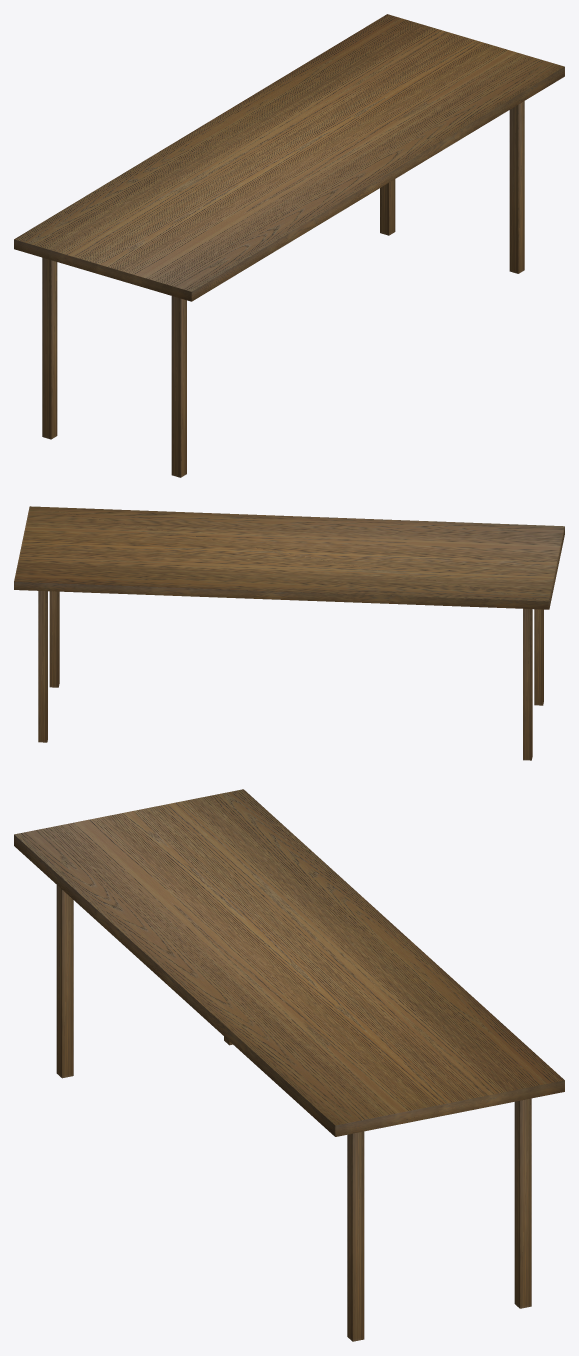
Rendered from Obstacle_088.obj.
The picture shows the model from 3 angles, top to bottom: view 1: azimuth 30°, elevation 25°; view 2: azimuth 150°, elevation 25°; view 3: azimuth 270°, elevation 25°; orthographic projection. The views are drawn at different scales.
Visible parts, largest first — view 1: Box195; view 2: Box195; view 3: Box195.
Boxes of the visible parts, x1,y1,x2,y2 form: Box195: (14, 14, 564, 477); Box195: (14, 506, 564, 760); Box195: (14, 789, 564, 1341).
Size of the model in its own units: 124 by 40.27 by 85.6.
